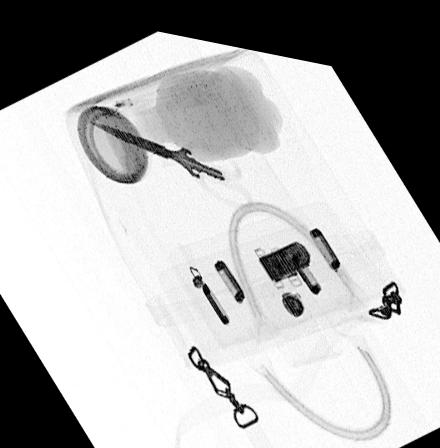Scissors: (83, 113, 258, 206)
